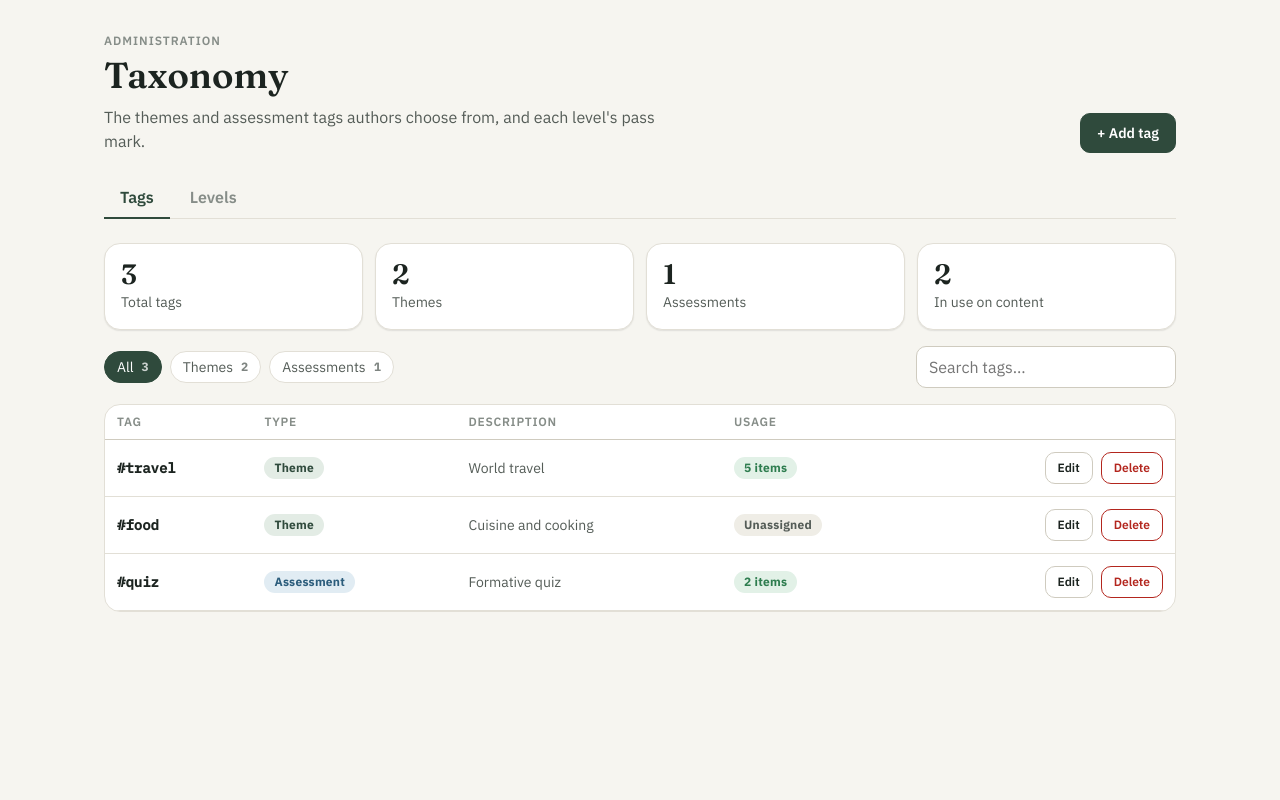
Scenario: TaxonomyAdminScreen › a tag on content keeps its type: the type select is locked when editing it
Click the button with test id "btn-edit-tag" in the row of "#travel". click: [1069, 468]
box: [1045,452,1093,484]
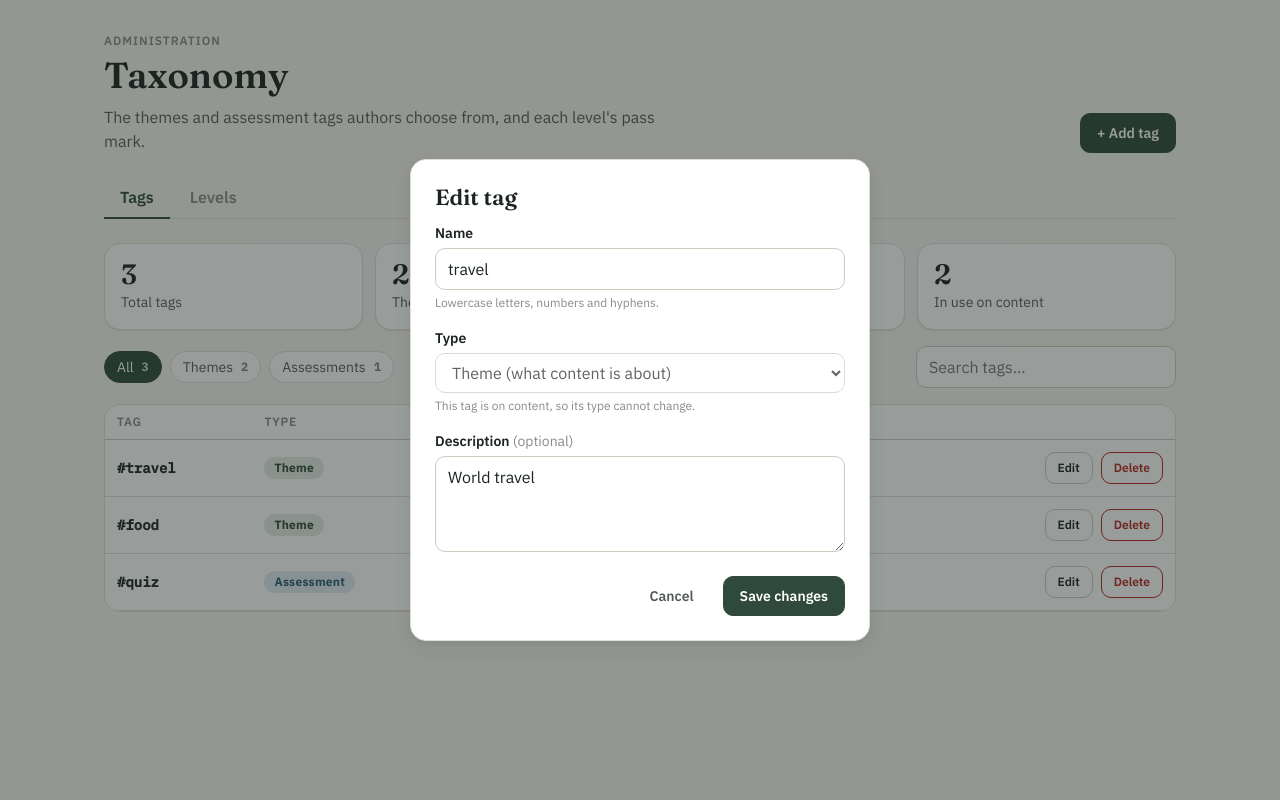
Expected: the dropdown with test id "tag-type" is disabled, [435,353,845,393]
Expected: the text "This tag is on content, so its type cannot change." is shown, [435,398,695,413]
Click the button "Cancel". click: [672, 596]
box: [632,576,711,616]
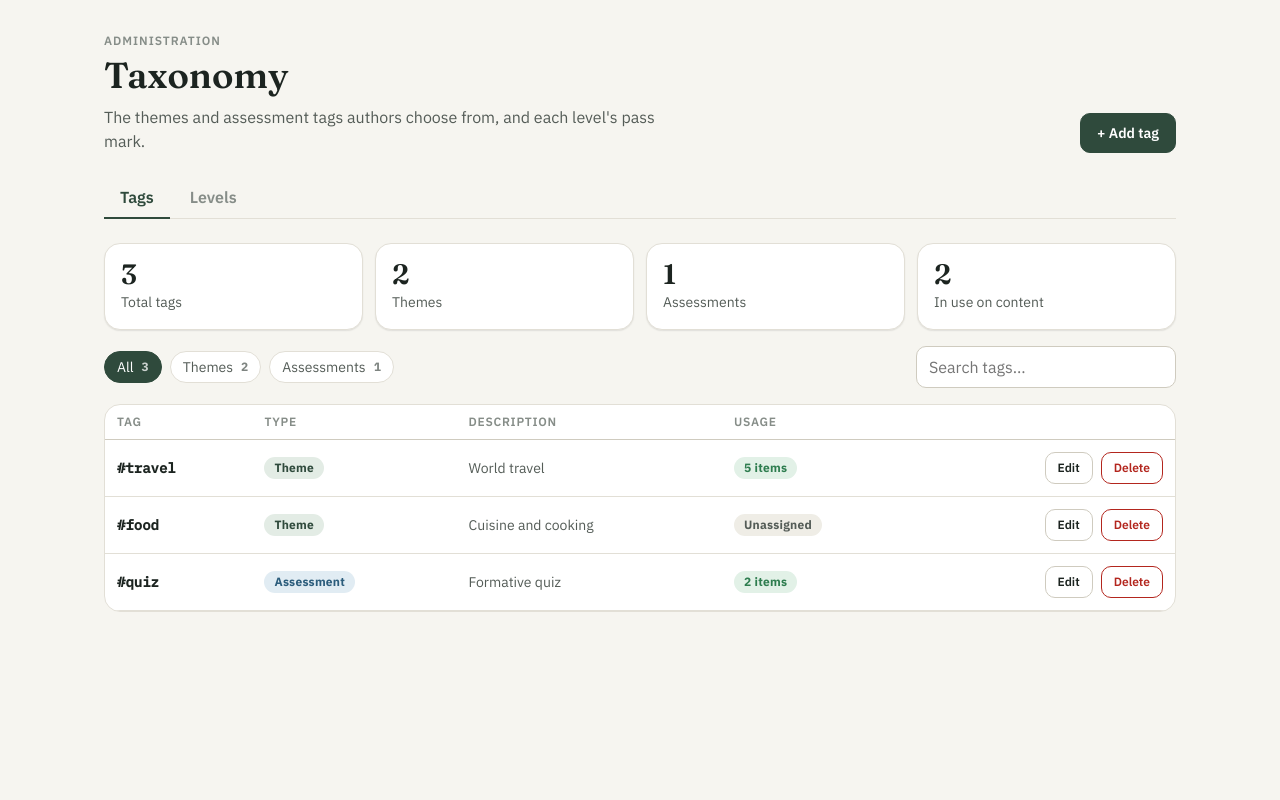
Click the button with test id "btn-edit-tag" in the row of "#food". click: [1069, 525]
box: [1045,509,1093,541]
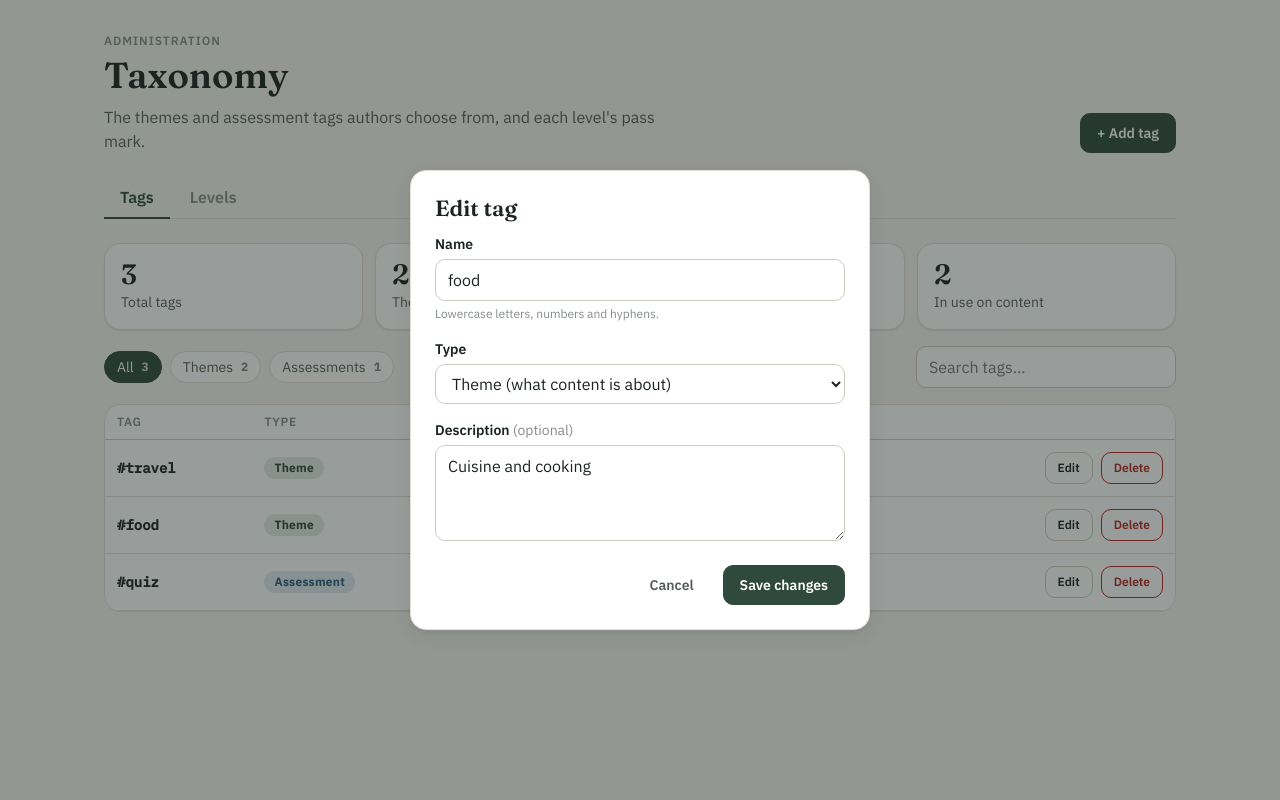
Expected: the dropdown with test id "tag-type" is enabled, [435,364,845,404]
